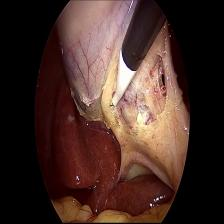Hook: (110, 47, 138, 116)
